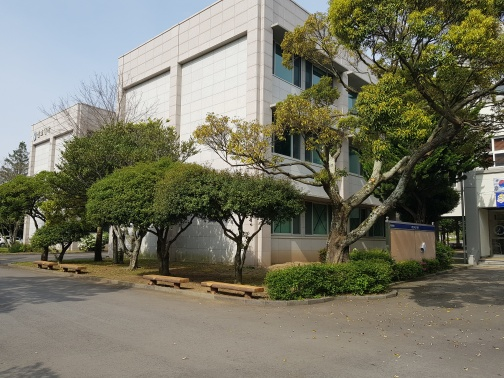College of Nursing: (115, 11, 444, 257), (22, 96, 94, 242)
